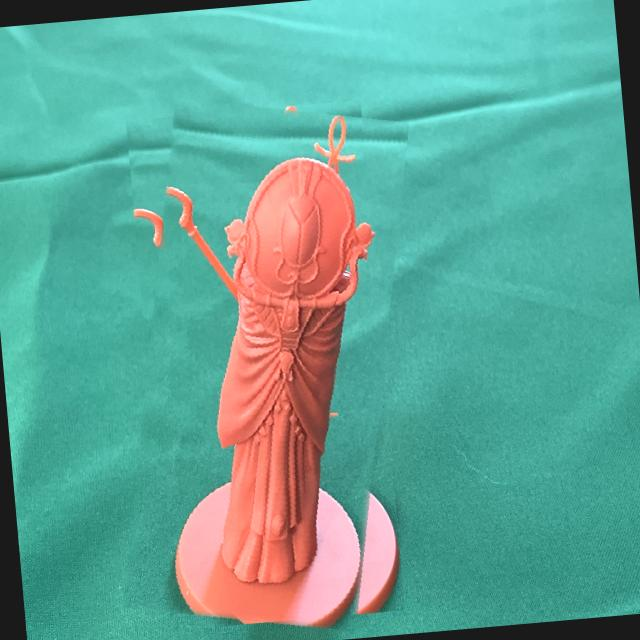amon: (101, 89, 428, 640)
